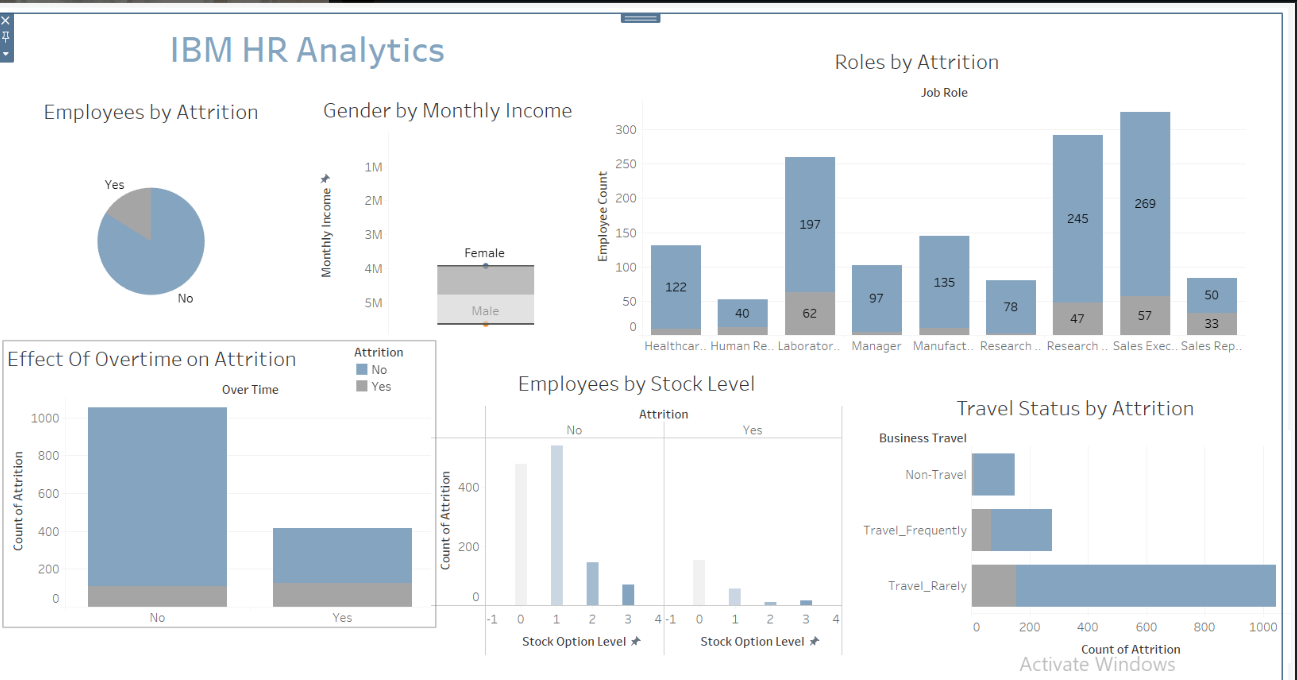

What the dashboard file says about the page in this screenshot:
{"tool":"tableau","page":{"name":"Dashboard 1","canvas":[1630,1250],"ordinal":0},"visuals":[{"type":"text","box":[141,17,508,68]},{"type":"worksheet","title":"total employees by roles ","mark":"Automatic","rows":["EmployeeCount"],"cols":["JobRole"],"box":[749,46,828,406]},{"type":"worksheet","title":"gender by monthly income","mark":"Circle","rows":["MonthlyIncome"],"box":[401,107,342,304]},{"type":"worksheet","title":"employees by attr","mark":"Pie","box":[11,109,375,320]},{"type":"worksheet","title":"overtime by attr","mark":"Automatic","rows":["Attrition"],"cols":["OverTime"],"box":[13,420,543,359]},{"type":"legend","title":"overtime by attr","param":"[federated.0gqus1b1tir6cy1dtbkuf0jha1es].[none:Attrition:nk]","box":[454,423,140,64]},{"type":"worksheet","title":"total employees by stock level","mark":"Bar","rows":["Attrition"],"cols":["Attrition","StockOptionLevel"],"box":[551,451,518,365]},{"type":"worksheet","title":"Travel status by cnt(Attr)","mark":"Automatic","rows":["BusinessTravel"],"cols":["Attrition"],"box":[1091,482,543,343]}]}

Visuals, with their boxes on the page's 1630x1250 design canvas (x1, y1, x2, y2). These are canvas units, not pixel positions in the 1297x680 screenshot, which may show the page scaled, cropped or inside an application window:
text: 141, 17, 649, 85
"total employees by roles " worksheet: 749, 46, 1577, 452
"gender by monthly income" worksheet (Circle marks): 401, 107, 743, 411
"employees by attr" worksheet (Pie marks): 11, 109, 386, 429
"overtime by attr" worksheet: 13, 420, 556, 779
"overtime by attr" legend: 454, 423, 594, 487
"total employees by stock level" worksheet (Bar marks): 551, 451, 1069, 816
"Travel status by cnt(Attr)" worksheet: 1091, 482, 1634, 825
